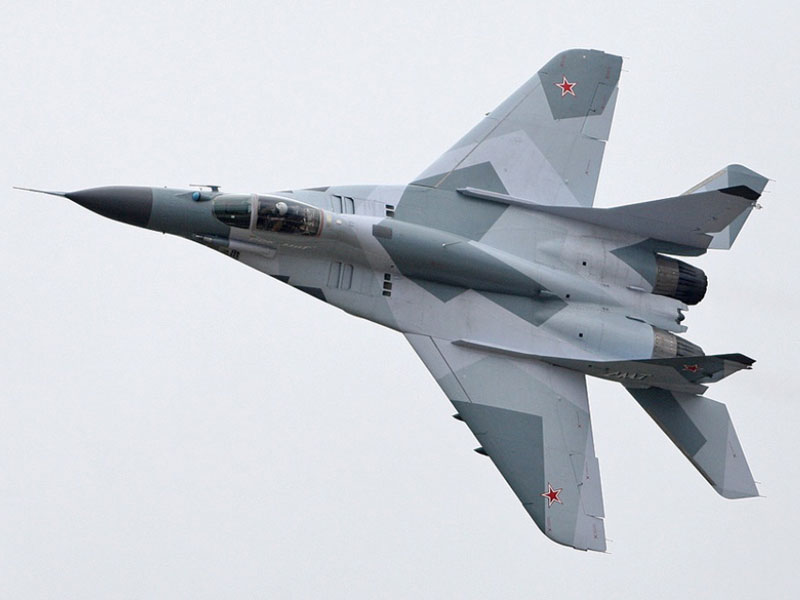Mig-29: (14, 15, 780, 529)
